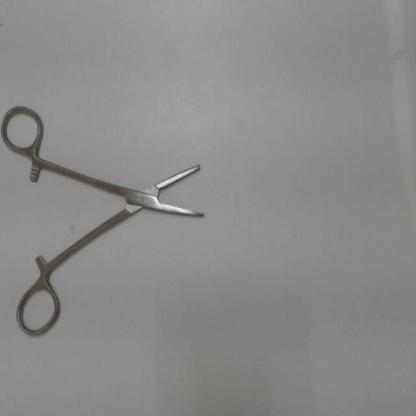Mayo Needle Holder: (1, 100, 212, 345)
